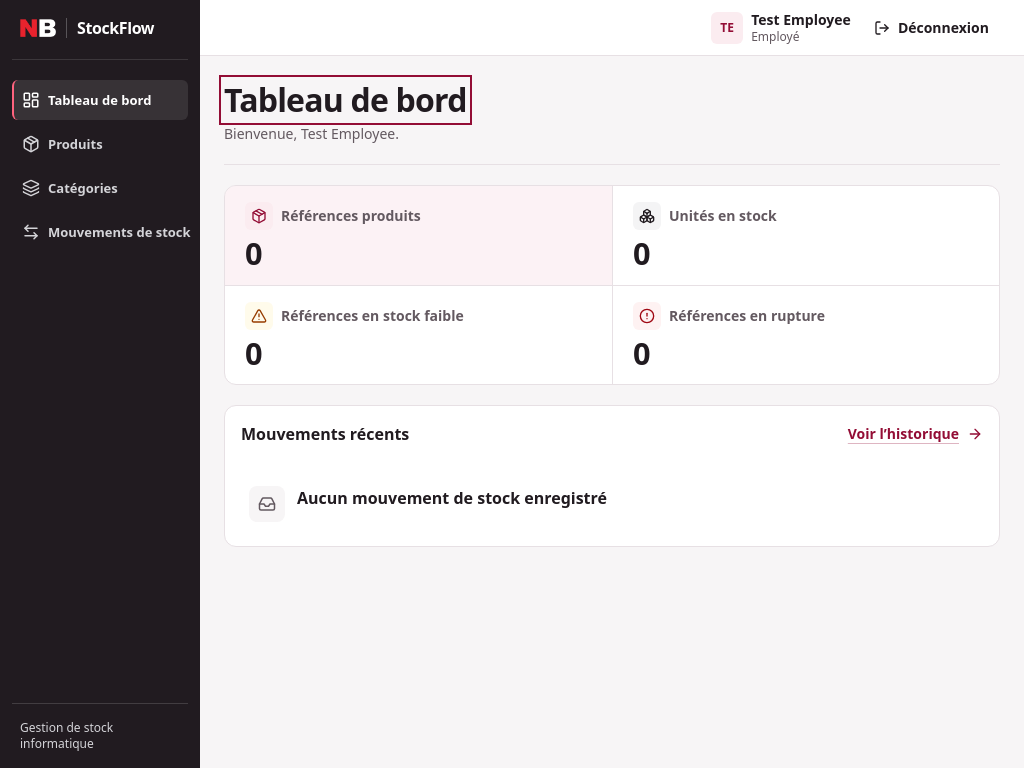
Scenario: restores the session and handles HTTP 200 on logout
This screenshot has width=1024, height=768.
Check: the heading "Aucun mouvement de stock enregistré" is shown, box x1=297 y1=486 x2=607 y2=510
Click the button "Déconnexion" at coordinates (931, 28), box x1=863 y1=12 x2=1000 y2=44
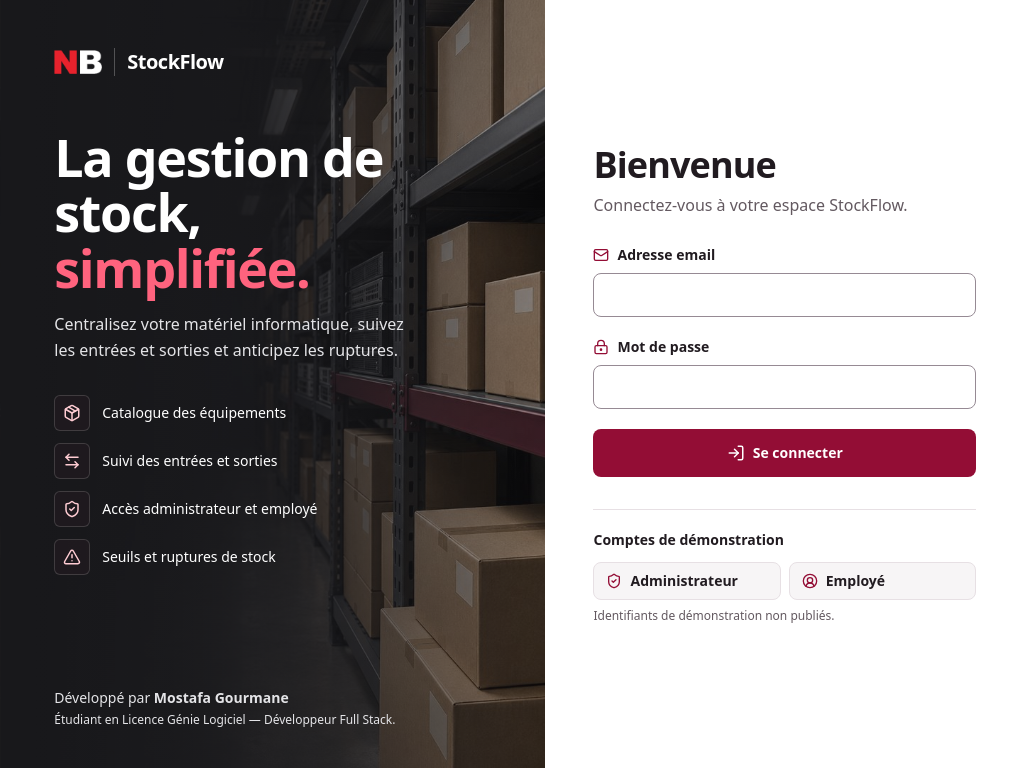
Check: the button "Se connecter" is shown, box x1=594 y1=428 x2=976 y2=476
Check: the link "Tableau de bord" is gone
